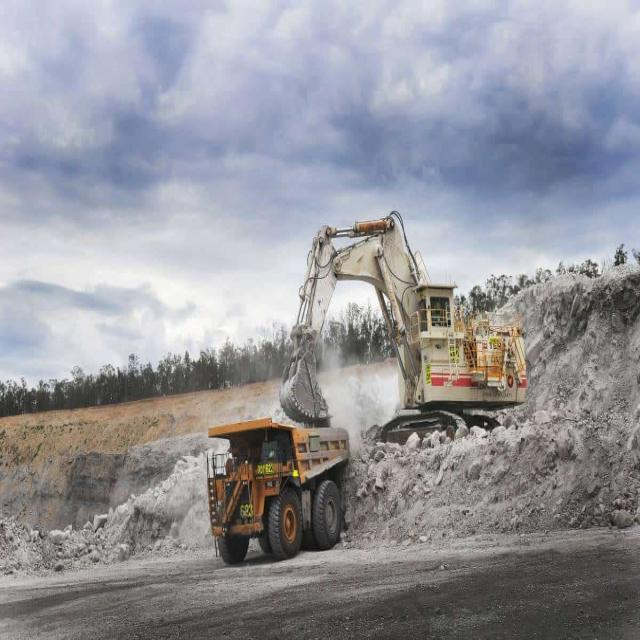dump_truck: (198, 403, 358, 560)
excavator: (280, 200, 527, 449)
